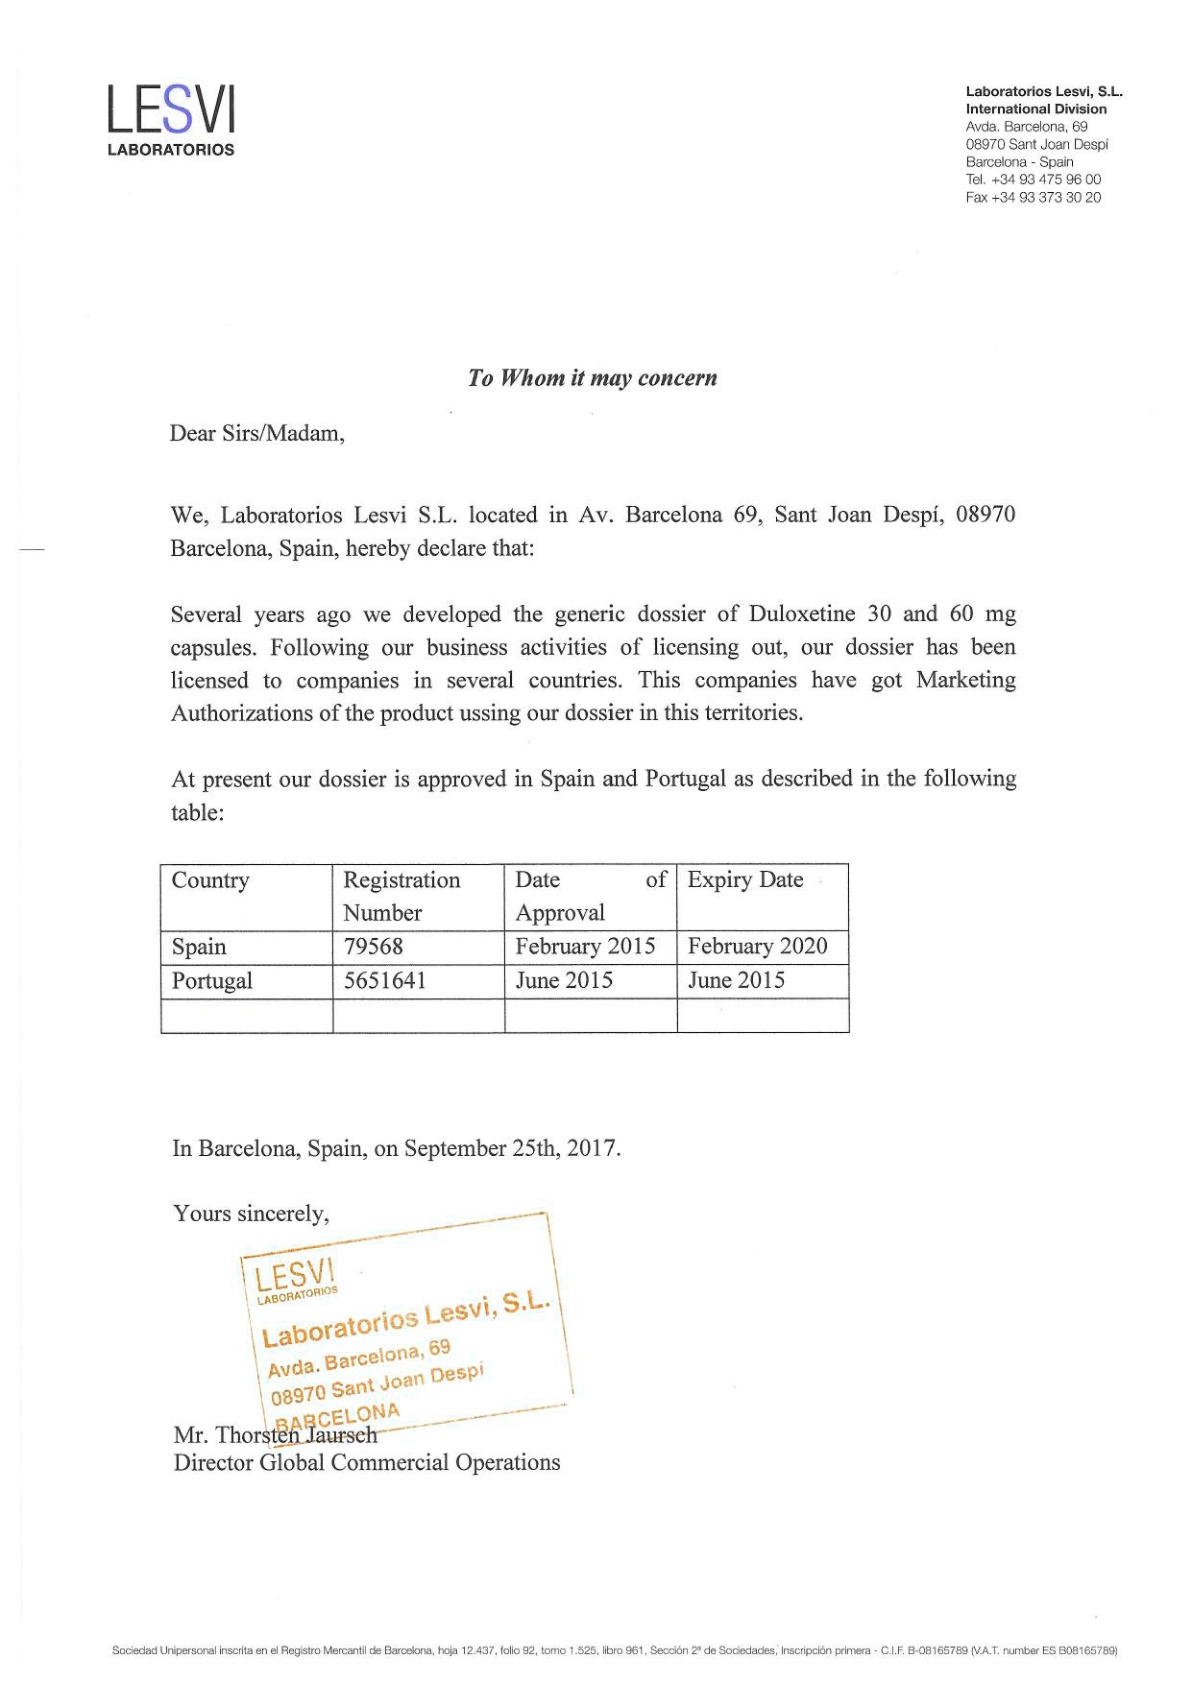full_lined: (151, 850, 876, 1044)
